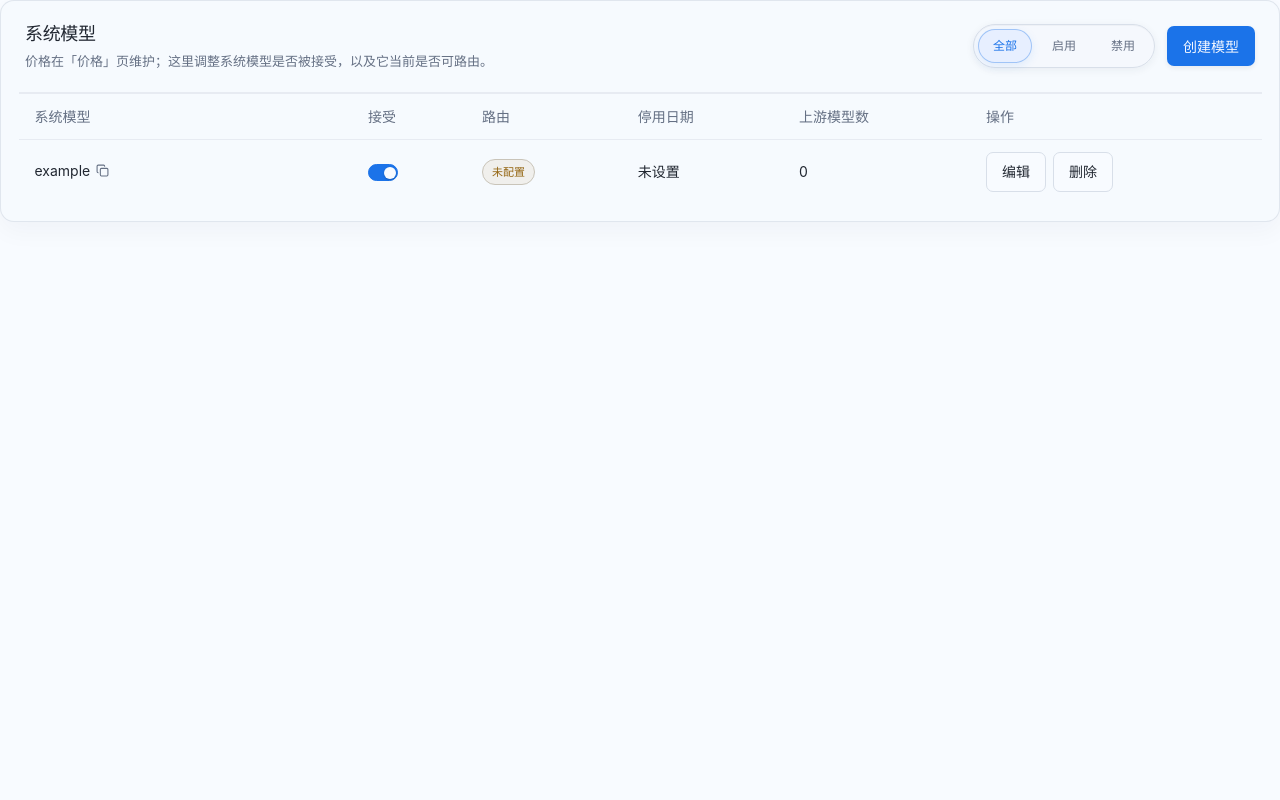
Test: models management › keeps a concurrent delete conflict visible in the confirmation
Expected: the text "未配置" is shown, [482,159,535,185]
Click the button "删除" at point(1083, 172), box [1053,152,1113,192]
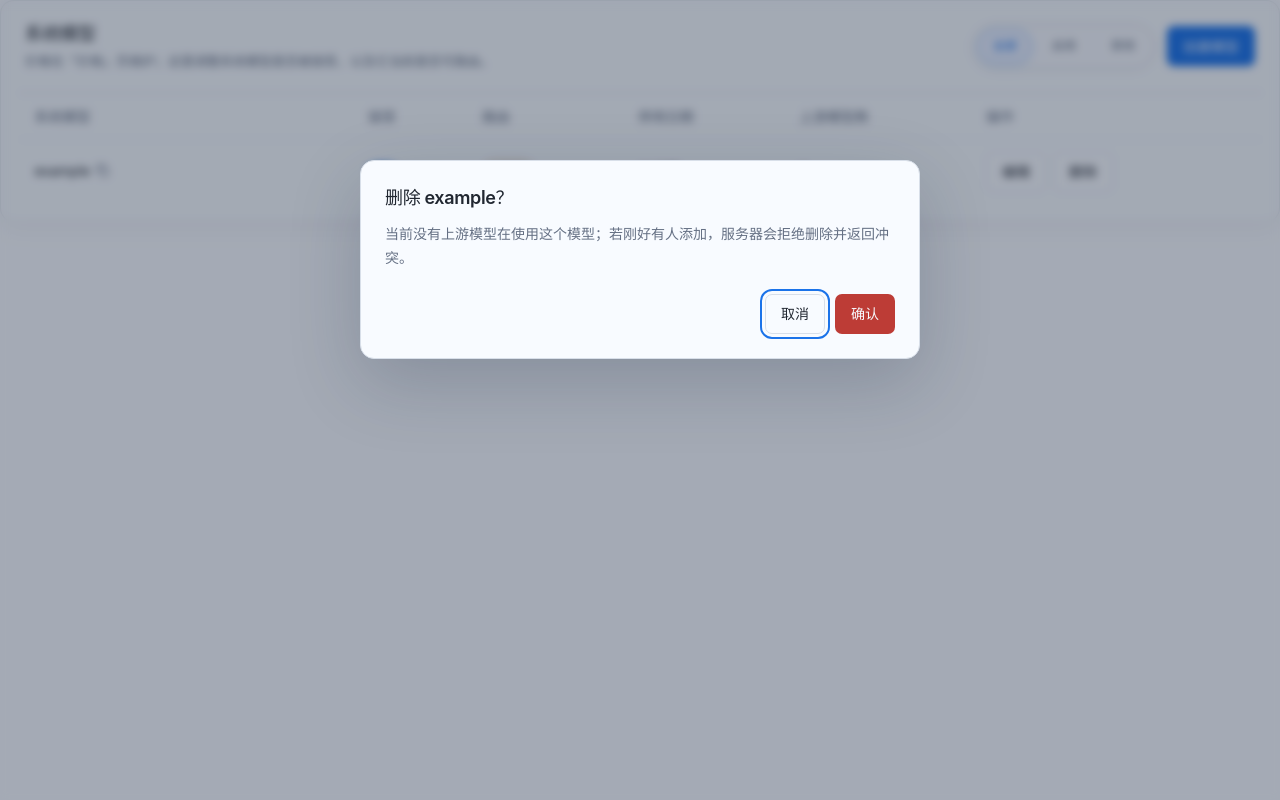
Click the button "确认" at point(865, 314), box [835,294,895,334]
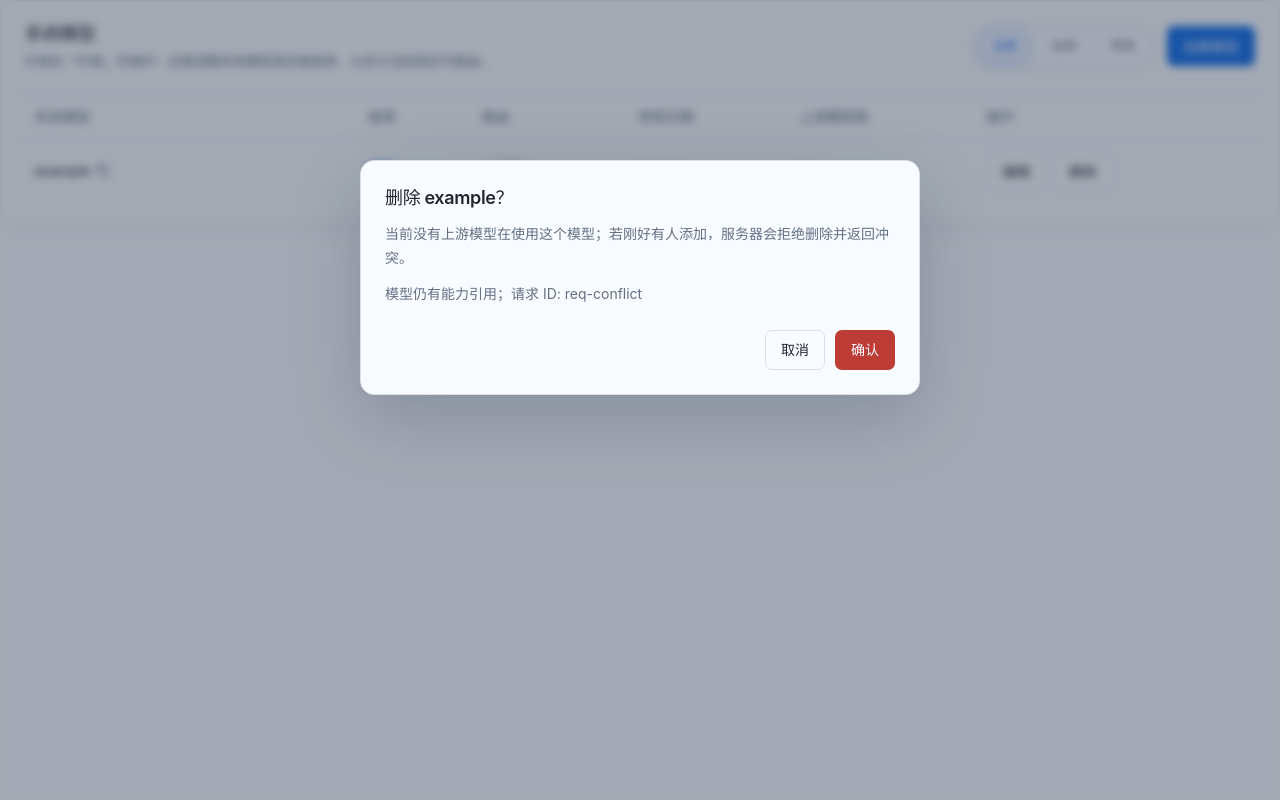
Expected: the dialog is shown, [360,160,920,395]
Expected: the message shows "模型仍有能力引用", [385,285,642,302]
